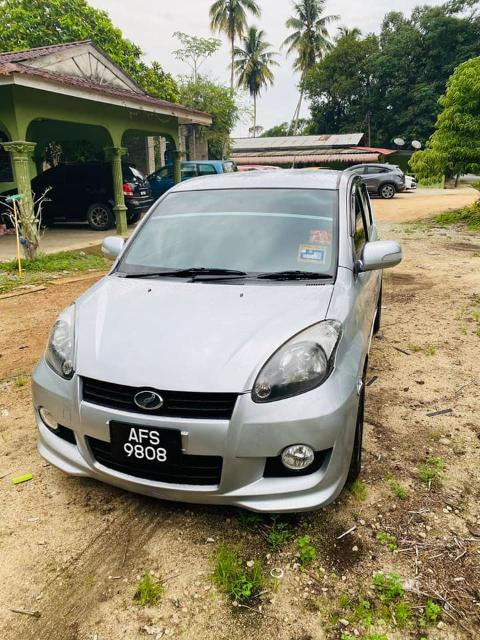License_Plate: (111, 421, 175, 469)
